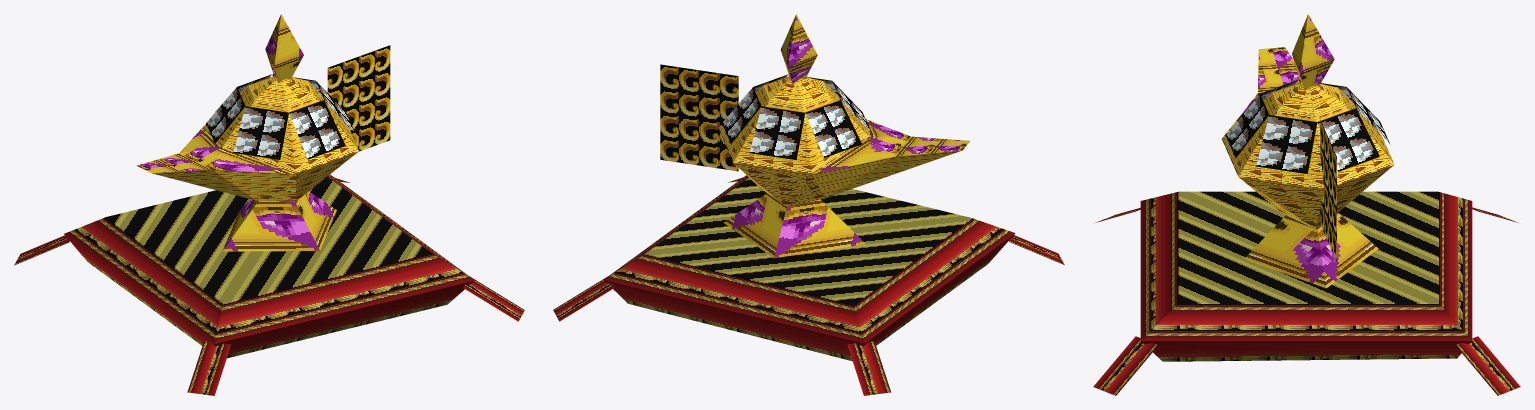
Rendered from 5650ucc_ramp.gltf.
3 views of the same model, side by side, from view 1: azimuth 30°, elevation 25°; view 2: azimuth 150°, elevation 25°; view 3: azimuth 270°, elevation 25° (orthographic). The views are drawn at different scales.
Parts seen in each view (by area): view 1: 5650ucc_ramp; view 2: 5650ucc_ramp; view 3: 5650ucc_ramp.
Part boxes in pixels (x1,y1,x2,y2): 5650ucc_ramp: (14,14,524,395); 5650ucc_ramp: (553,14,1064,395); 5650ucc_ramp: (1093,14,1520,395).
Size of the model in its own units: 0.998 by 0.7642 by 0.9946.
5 materials, 5 textured.
